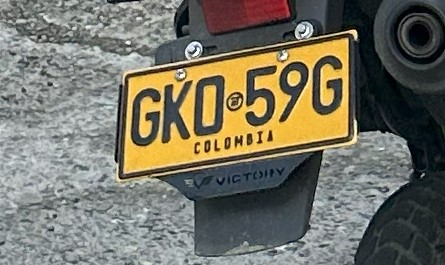number plate: (117, 31, 356, 178)
